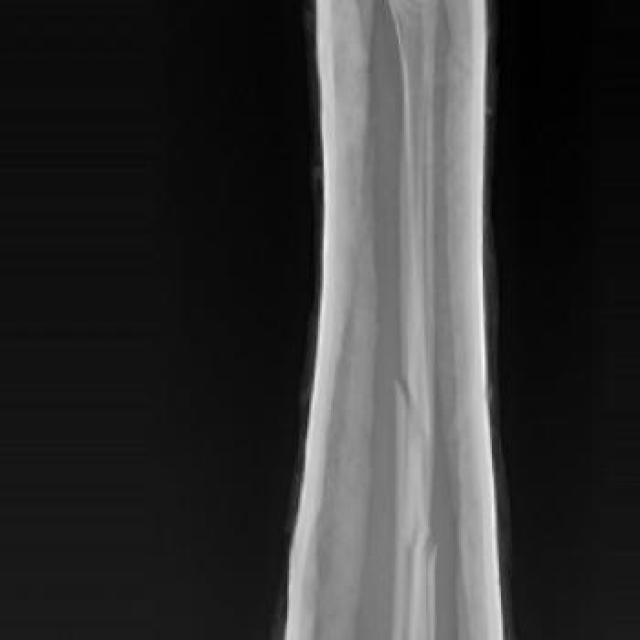Fracture: (393, 523, 444, 570), (386, 373, 435, 421)
